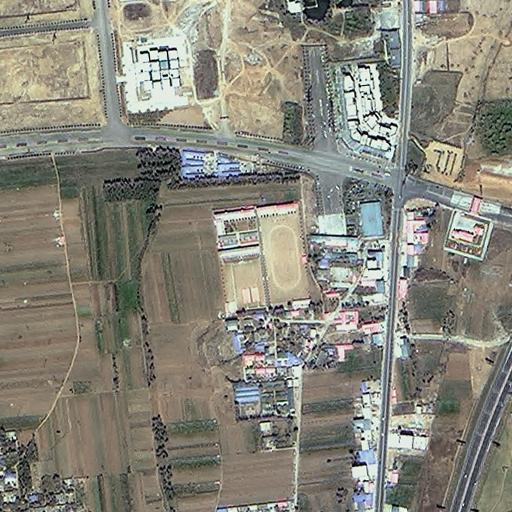school: (210, 197, 307, 312)
